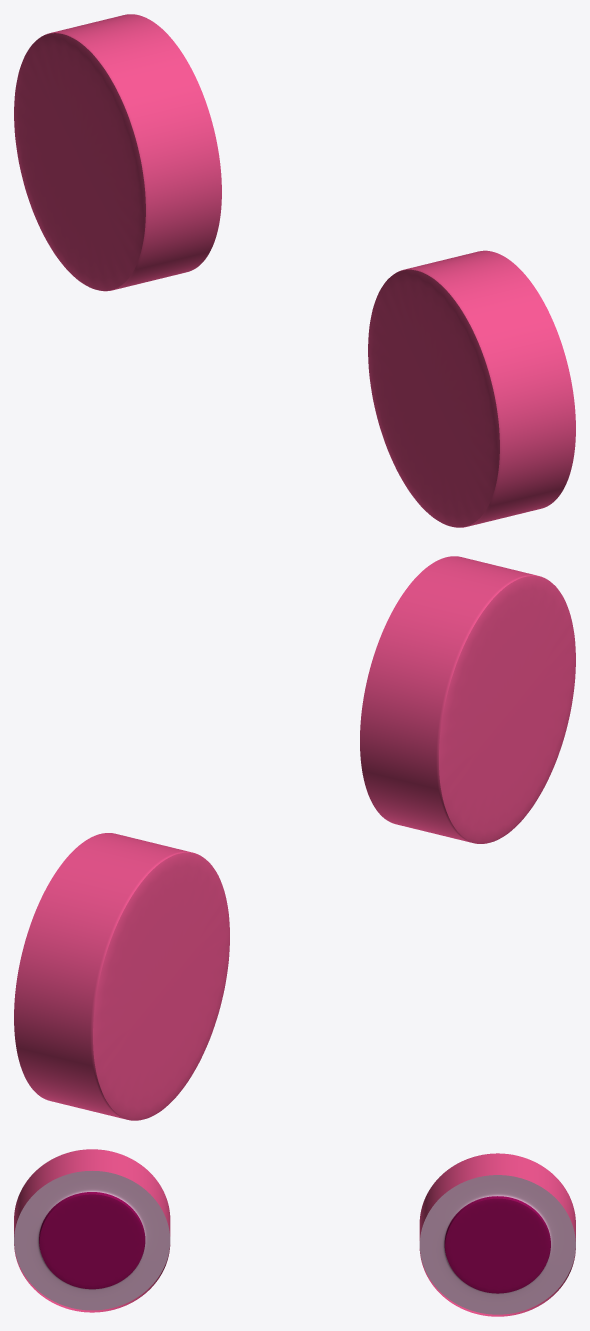
Rendered from BrokenWallPart4.fbx.
3 renders of one model, top to bottom at view 1: azimuth 30°, elevation 25°; view 2: azimuth 150°, elevation 25°; view 3: azimuth 270°, elevation 25°, orthographic. The views are drawn at different scales.
Parts seen in each view (by area): view 1: Circle.003; view 2: Circle.003; view 3: Circle.003.
Boxes of the visible parts, x1,y1,x2,y2 form: Circle.003: (14,14,575,527); Circle.003: (14,556,575,1120); Circle.003: (14,1149,575,1316).
Size of the model in its own units: 37.49 by 101 by 346.
